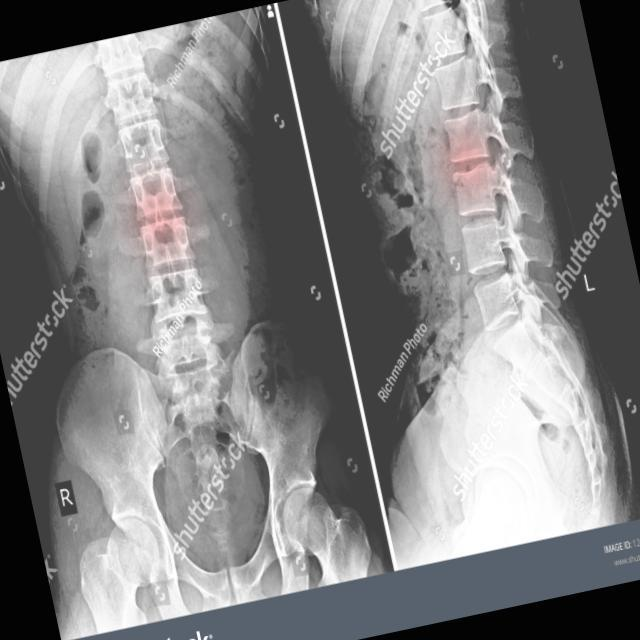Compression-Crush Fracutre: (436, 118, 513, 217), (116, 184, 209, 253)
